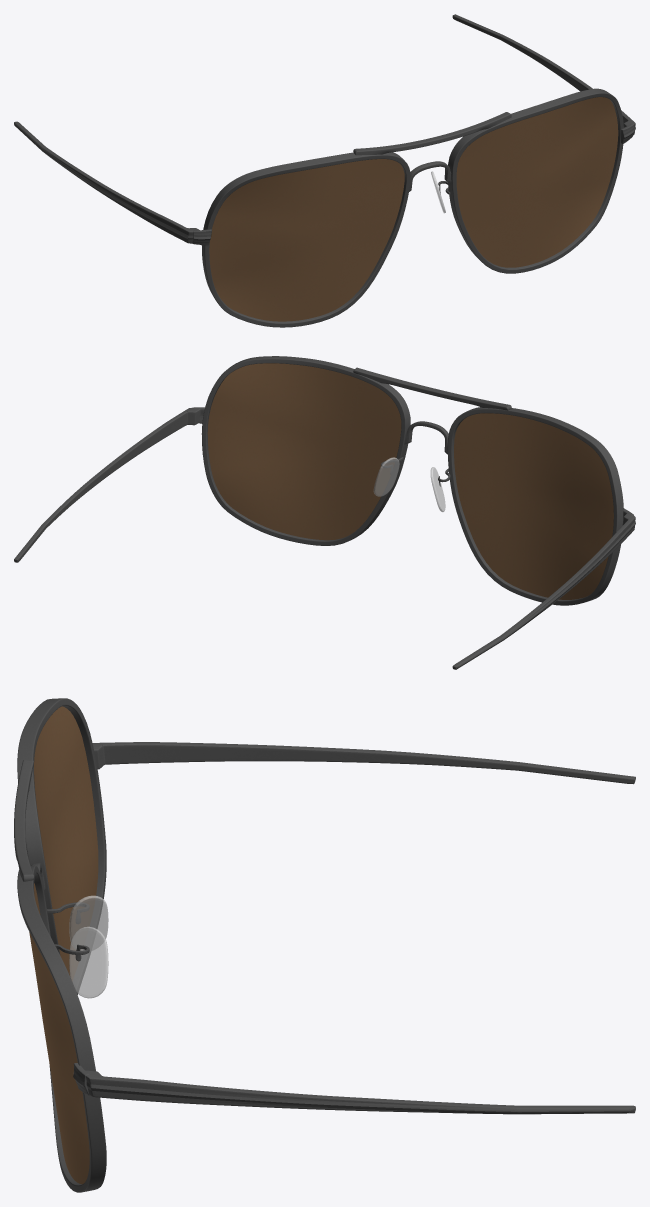
The model's file is Chromanceslots.glb.
3 views of the same model, one above another, from view 1: azimuth 30°, elevation 25°; view 2: azimuth 150°, elevation 25°; view 3: azimuth 270°, elevation 25° (orthographic). The views are drawn at different scales.
Parts seen in each view (by area): view 1: Lentes, armacao; view 2: Lentes, armacao, Pontes; view 3: armacao, Lentes, Pontes.
Boxes of the visible parts, <box> form: Lentes: <box>209,97,618,321</box>; armacao: <box>14,14,635,327</box>; Lentes: <box>207,363,613,599</box>; armacao: <box>14,356,635,669</box>; Pontes: <box>373,457,445,512</box>; armacao: <box>14,698,635,1192</box>; Lentes: <box>29,706,98,1184</box>; Pontes: <box>69,895,108,998</box>.
Bounding box in the file's own units: 0.1573 × 0.0556 × 0.1173.
3 materials, 3 textured.
